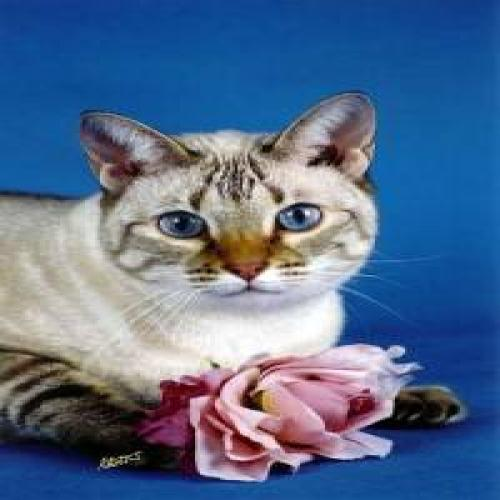bengal: (53, 95, 419, 322)
